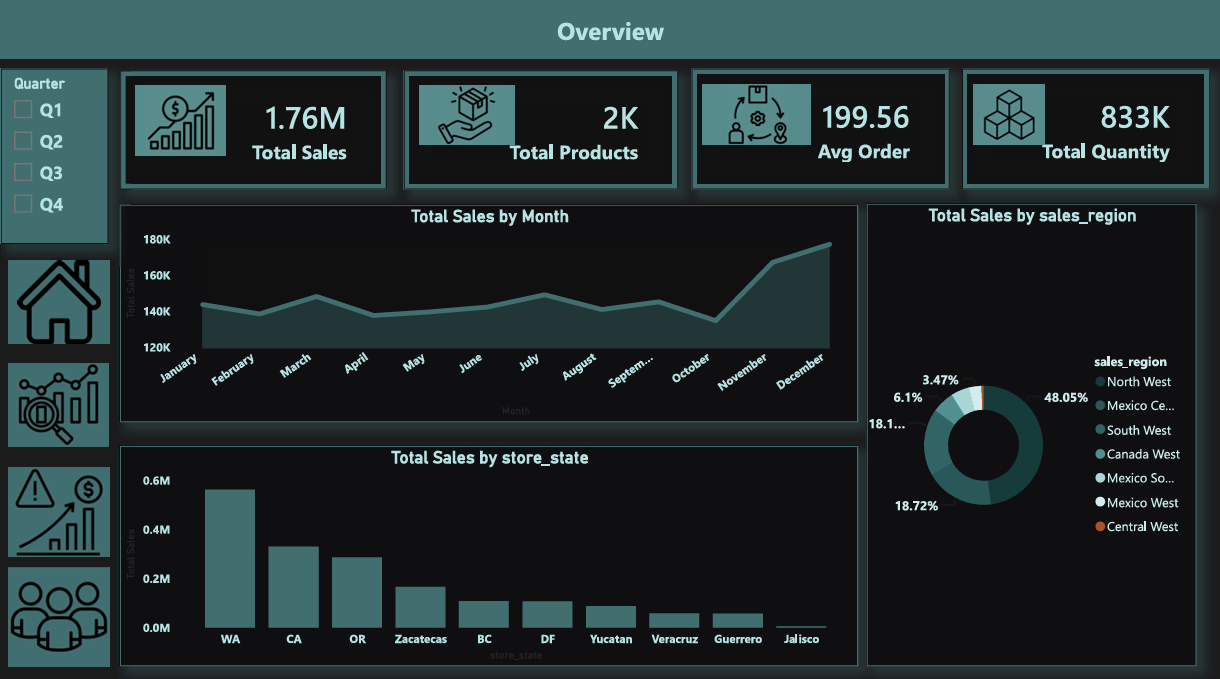

This screenshot's page, from the dashboard's own definition file:
{"tool":"powerbi","page":{"name":"Overview","canvas":[1280,720],"ordinal":1},"visuals":[{"type":"shape","box":[0,0,1280.3,60.4],"z":0},{"type":"cardVisual","fields":{"Data":["Measure.Total Sales"]},"box":[124.9,72.7,279.9,124.9],"z":1000},{"type":"cardVisual","fields":{"Data":["Measure.Total Products"]},"box":[422.6,72.7,288.2,124.9],"z":2000},{"type":"cardVisual","fields":{"Data":["Measure.Avg Order"]},"box":[724.5,71.4,271.7,126.2],"z":3000},{"type":"cardVisual","fields":{"Data":["Measure.Total Quantity"]},"box":[1008.6,71.4,260.7,126.2],"z":4000},{"type":"lineChart","fields":{"Category":["Calender.Date.Variation.Date Hierarchy.Month"],"Y":["Measure.Total Sales"]},"box":[124.9,214.1,775.3,227.8],"z":5000},{"type":"clusteredColumnChart","fields":{"Category":["Stores.store_state"],"Y":["Measure.Total Sales"]},"box":[124.9,466.6,775.3,231.9],"z":6000},{"type":"donutChart","fields":{"Category":["Region.sales_region"],"Y":["Measure.Total Sales","select"]},"box":[908.5,213.4,346.3,484.1],"z":7000},{"type":"slicer","fields":{"Values":["Calender.Quarter"]},"box":[0,71.4,112.5,183.9],"z":8000},{"type":"image","box":[8.2,273.1,105.7,86.4],"z":9000},{"type":"image","box":[8.2,380.1,104.3,86.4],"z":10000},{"type":"image","box":[8.2,488.5,105.7,94.7],"z":11000},{"type":"image","box":[1020.9,87.8,75.5,63.1],"z":12000},{"type":"image","box":[439.1,89.2,100.2,61.7],"z":13000},{"type":"image","box":[141.3,89.2,94.7,74.1],"z":14000},{"type":"image","box":[736.9,87.8,113.9,63.1],"z":15000},{"type":"image","box":[8.2,594.2,105.7,104.3],"z":16000}]}

Visuals, with their boxes in screenshot pixels (x1, y1, x2, y2), scaled from the page's 1280x720 canvas onto the 1220x679 screenshot:
shape: 0/0/1219/57
cardVisual - Measure.Total Sales: 119/69/386/186
cardVisual - Measure.Total Products: 403/69/677/186
cardVisual - Measure.Avg Order: 691/67/950/186
cardVisual - Measure.Total Quantity: 961/67/1210/186
lineChart - Calender.Date.Variation.Date Hierarchy.Month x Measure.Total Sales: 119/202/858/417
clusteredColumnChart - Stores.store_state x Measure.Total Sales: 119/440/858/659
donutChart - Region.sales_region x Measure.Total Sales: 866/201/1196/658
slicer - Calender.Quarter: 0/67/107/241
image: 8/258/109/339
image: 8/358/107/440
image: 8/461/109/550
image: 973/83/1045/142
image: 419/84/514/142
image: 135/84/225/154
image: 702/83/811/142
image: 8/560/109/659
